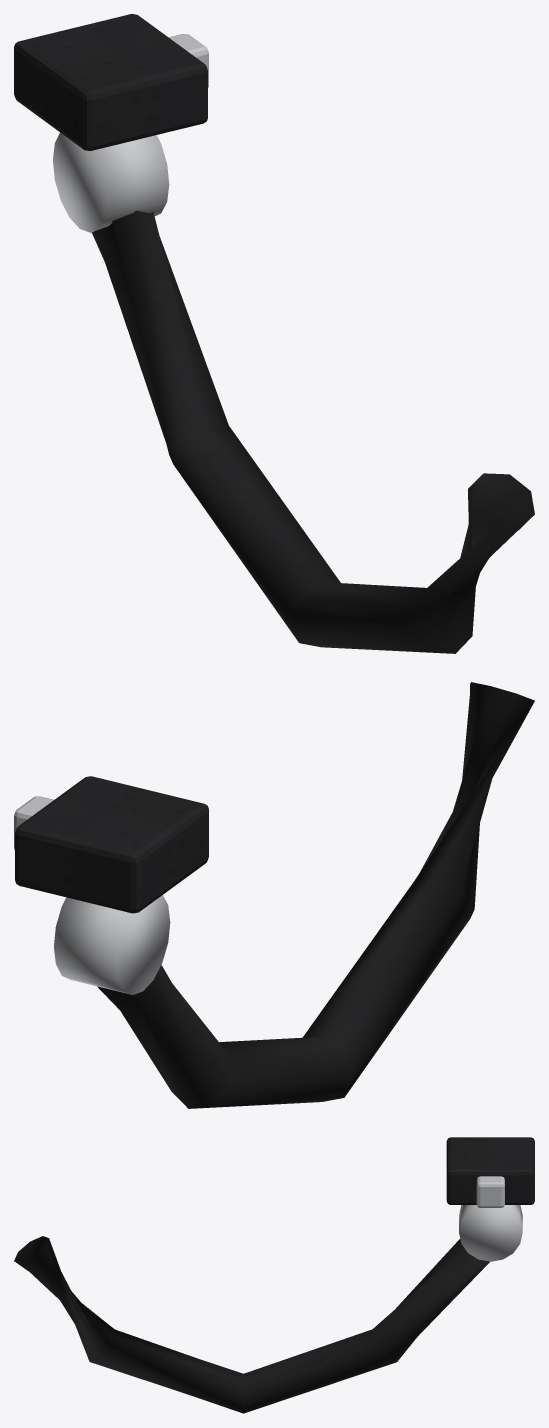
Rendered from sling_quick.glb.
The picture shows the model from 3 angles, top to bottom: view 1: azimuth 30°, elevation 25°; view 2: azimuth 150°, elevation 25°; view 3: azimuth 270°, elevation 25°; orthographic projection. The views are drawn at different scales.
Parts seen in each view (by area): view 1: strap, s_clamp, swivel; view 2: strap, s_clamp, swivel, s_screw; view 3: strap, s_clamp, swivel, s_screw.
Boxes of the visible parts, x1,y1,x2,y2 form: strap: (91,210,534,653); s_clamp: (14,14,207,150); swivel: (53,132,169,232); strap: (97,682,534,1108); s_clamp: (15,776,208,913); swivel: (54,895,170,994); s_screw: (14,796,53,850); strap: (14,1236,489,1413); s_clamp: (446,1137,534,1204); swivel: (459,1205,522,1261); s_screw: (476,1176,504,1207).
Size of the model in its own units: 0.029 by 0.081 by 0.1475.
Materials: 3 (2 with a texture image).
